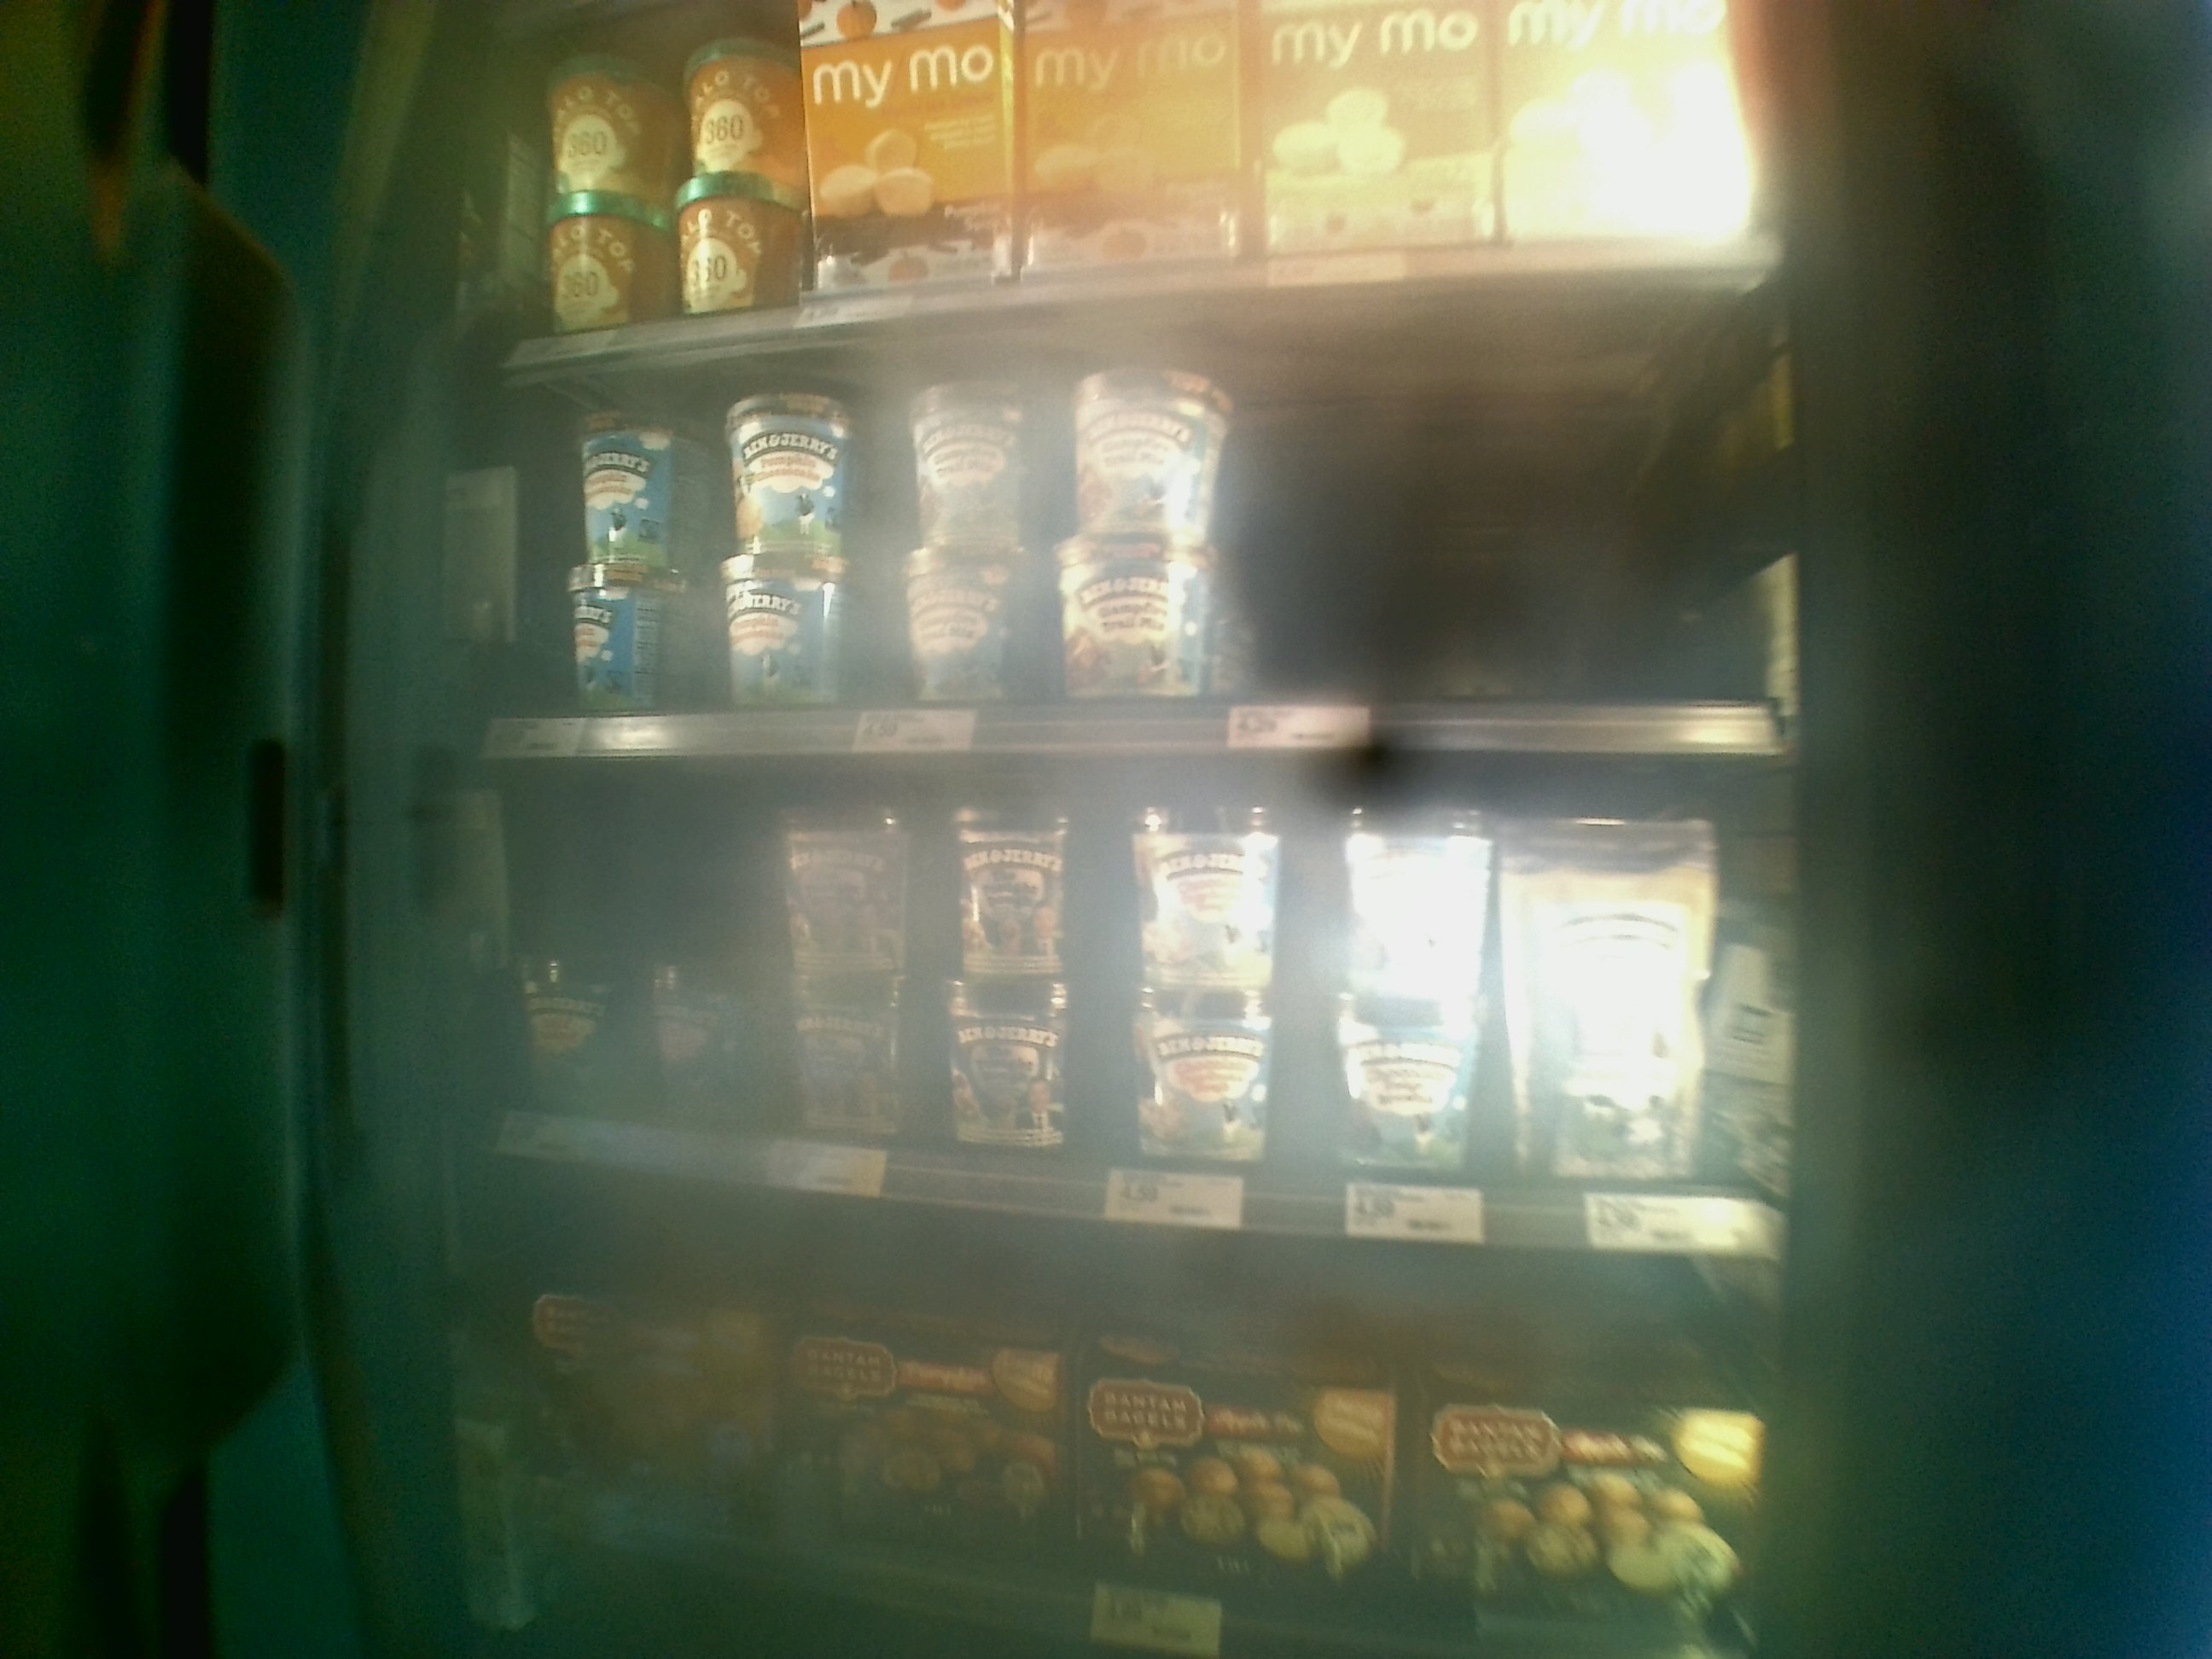shelf: (474, 741, 1787, 1225), (467, 352, 1787, 746)
